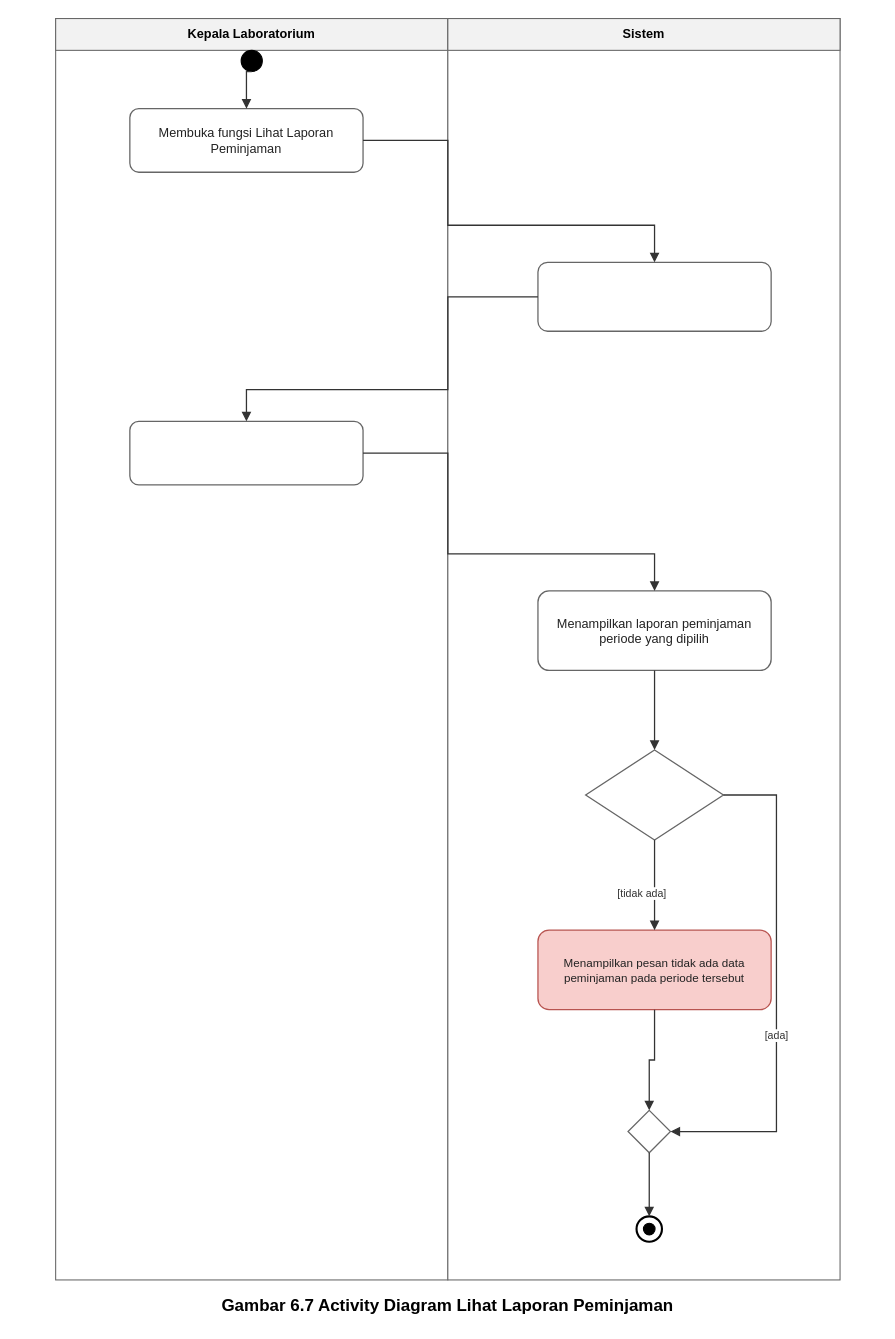
The diagram is 895 pixels wide and 1339 high, and some of its shapes have lost their labels. Here are the shapes that lost their labels. From the top down, the centre of each, then its label:
At point (654, 296): "Menampilkan daftar periode laporan".
At point (246, 452): "Memilih periode laporan".
At point (654, 794): "Ada data peminjaman?".
